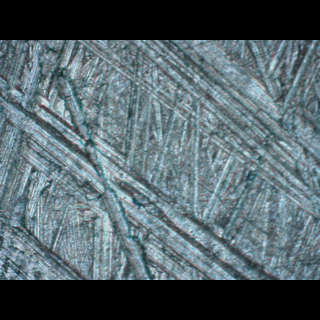d: (0, 96, 295, 279), (80, 39, 319, 223), (0, 209, 87, 279)
